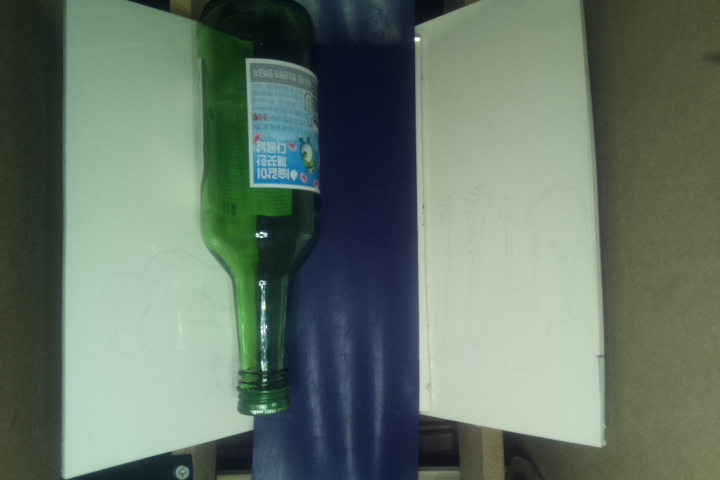soju: (196, 1, 325, 416)
